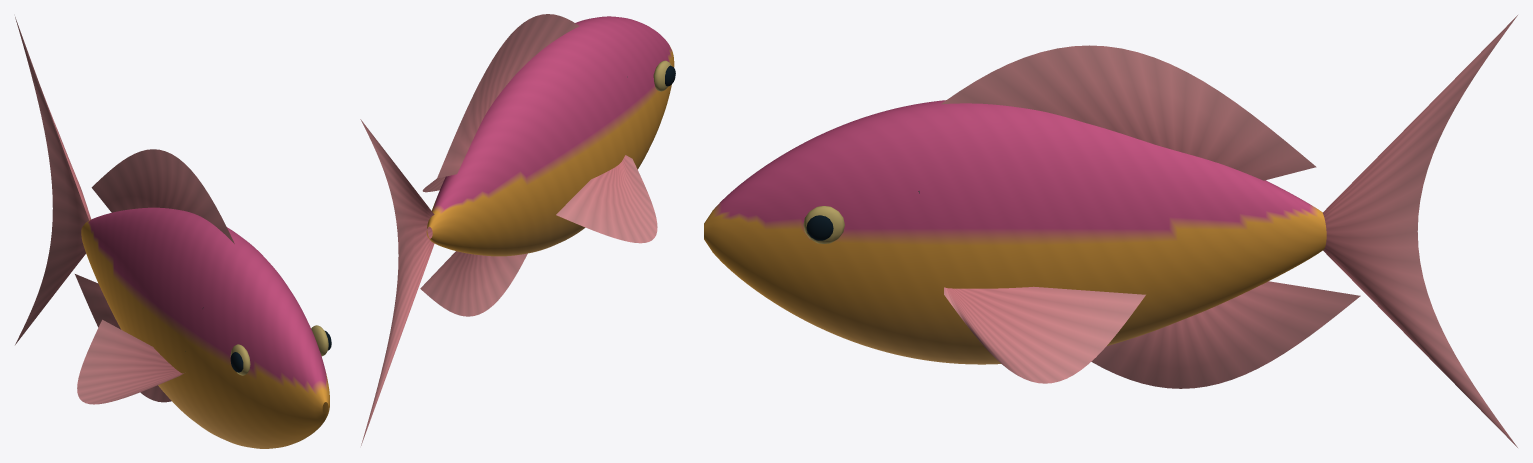
Rendered from anthias.glb.
The picture shows the model from 3 angles, left to right: view 1: azimuth 30°, elevation 25°; view 2: azimuth 150°, elevation 25°; view 3: azimuth 270°, elevation 25°; orthographic projection. The views are drawn at different scales.
Parts seen in each view (by area): view 1: Ocean Slice anthias; view 2: Ocean Slice anthias; view 3: Ocean Slice anthias.
Part boxes in pixels (x1,y1,x2,y2): Ocean Slice anthias: [15, 17, 331, 448]; Ocean Slice anthias: [360, 14, 675, 445]; Ocean Slice anthias: [704, 15, 1517, 447].
Size of the model in its own units: 0.54 by 0.76 by 1.29.
